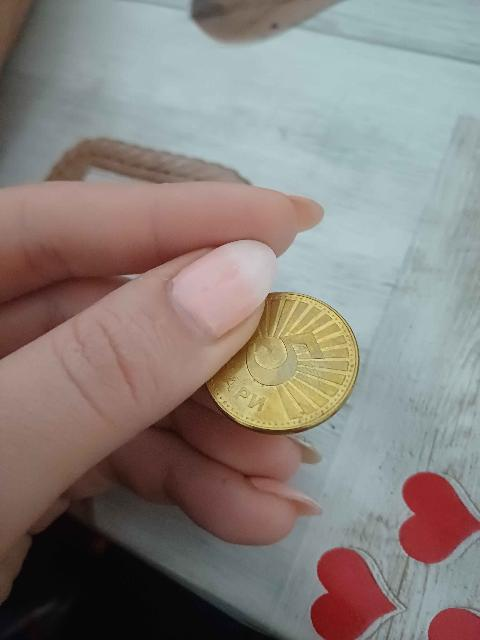5_coin: (207, 293, 358, 433)
